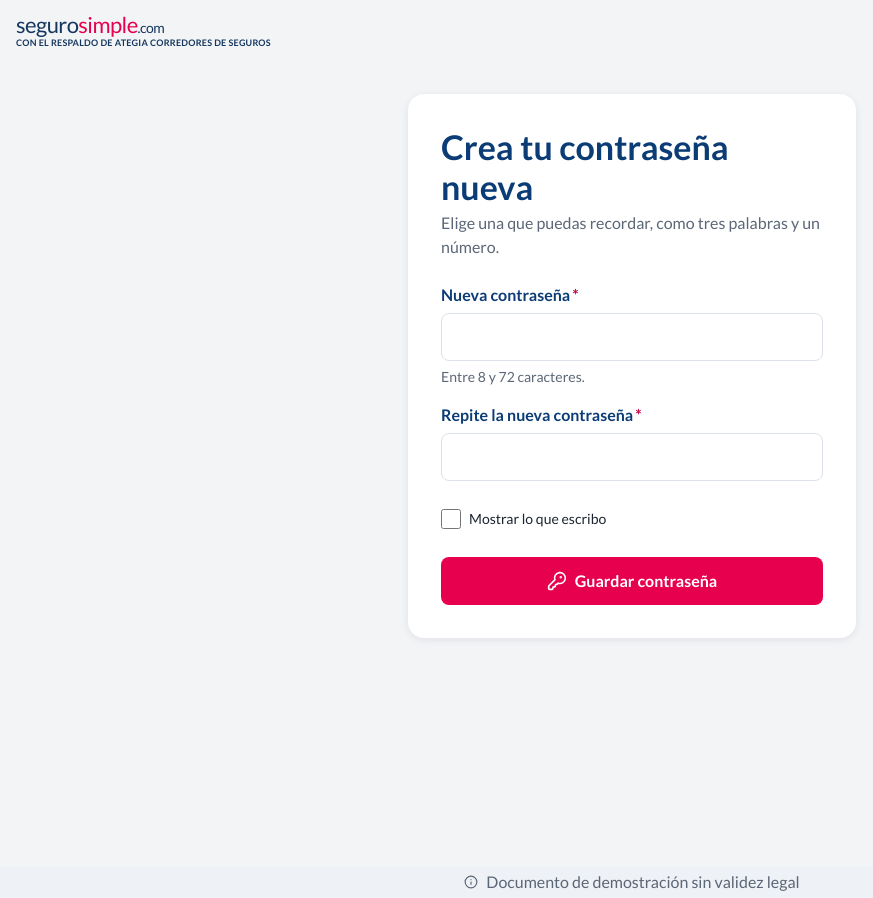
Test: RestablecerPasswordPage › valida largo y coincidencia sin llamar a Supabase
Type "corta" into the password field labelled "Nueva contraseña*" at point(632, 337), box [441, 313, 823, 361]
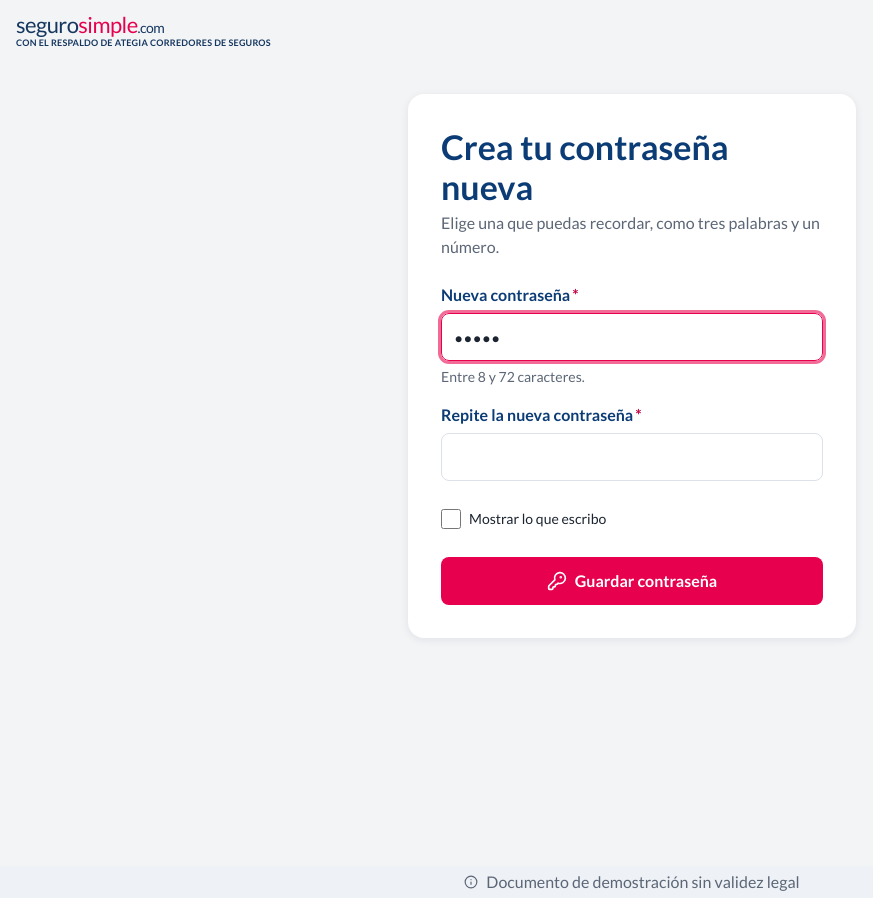
Type "otra" into the password field labelled "Repite la nueva contraseña*" at point(632, 457), box [441, 433, 823, 481]
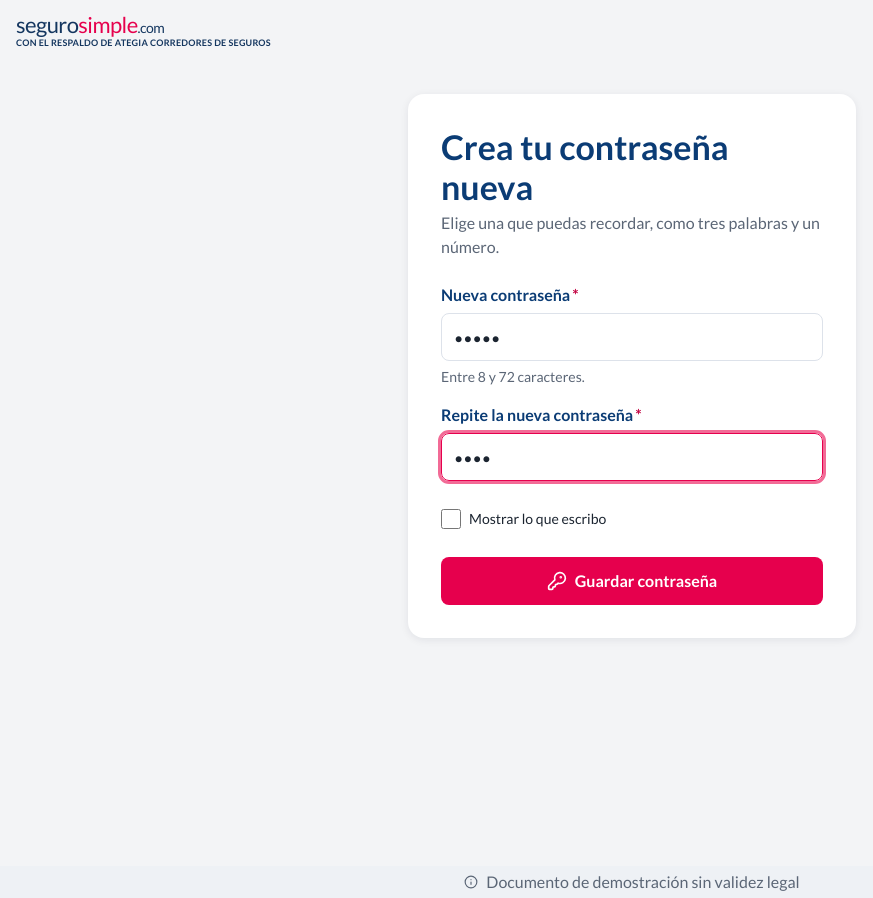
Click the button "Guardar contraseña" at point(632, 581), box [441, 557, 823, 605]
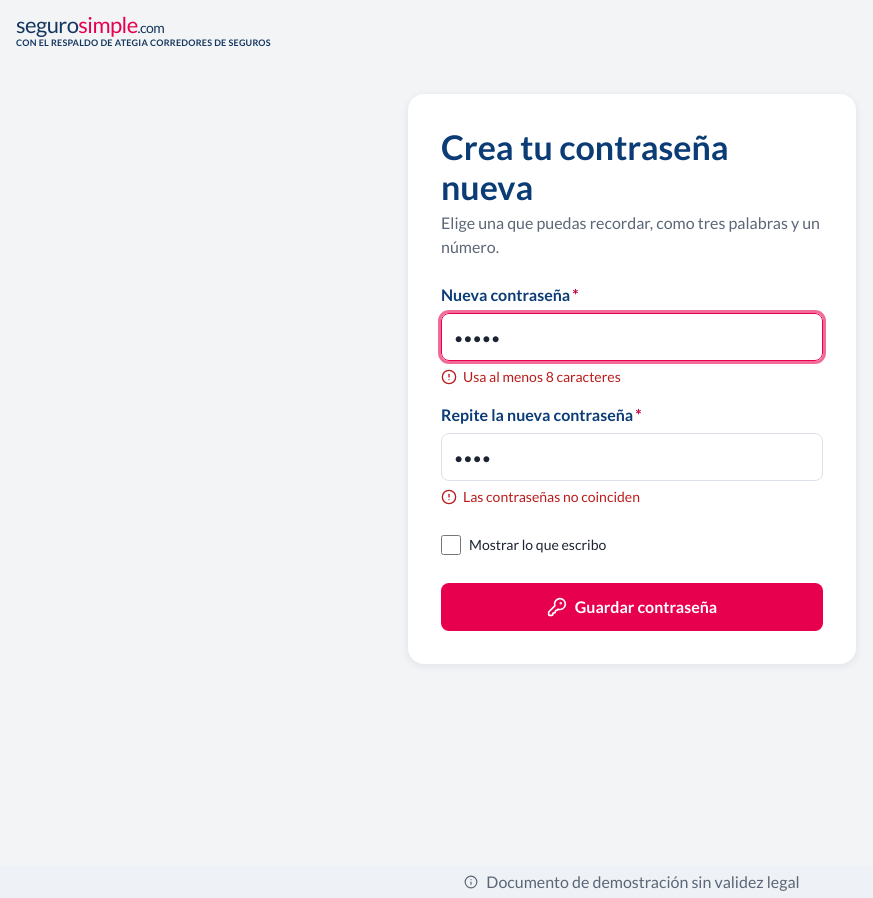
Result: the text "Usa al menos 8 caracteres" is shown at [463, 367, 621, 387]
Result: the text "Las contraseñas no coinciden" is shown at [463, 487, 640, 507]
